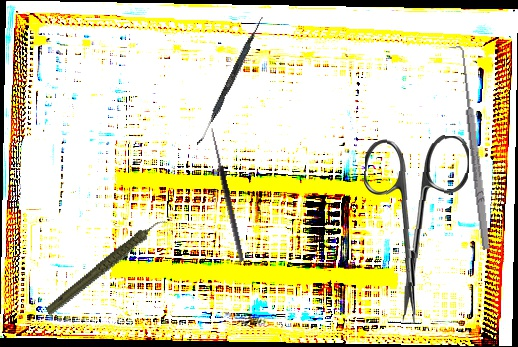Handpiece: (31, 217, 183, 317)
Hook Surgical: (448, 45, 493, 251), (201, 127, 246, 264)
Iris Scissors: (359, 132, 470, 326)
Spatula Surgical: (196, 14, 265, 148)
